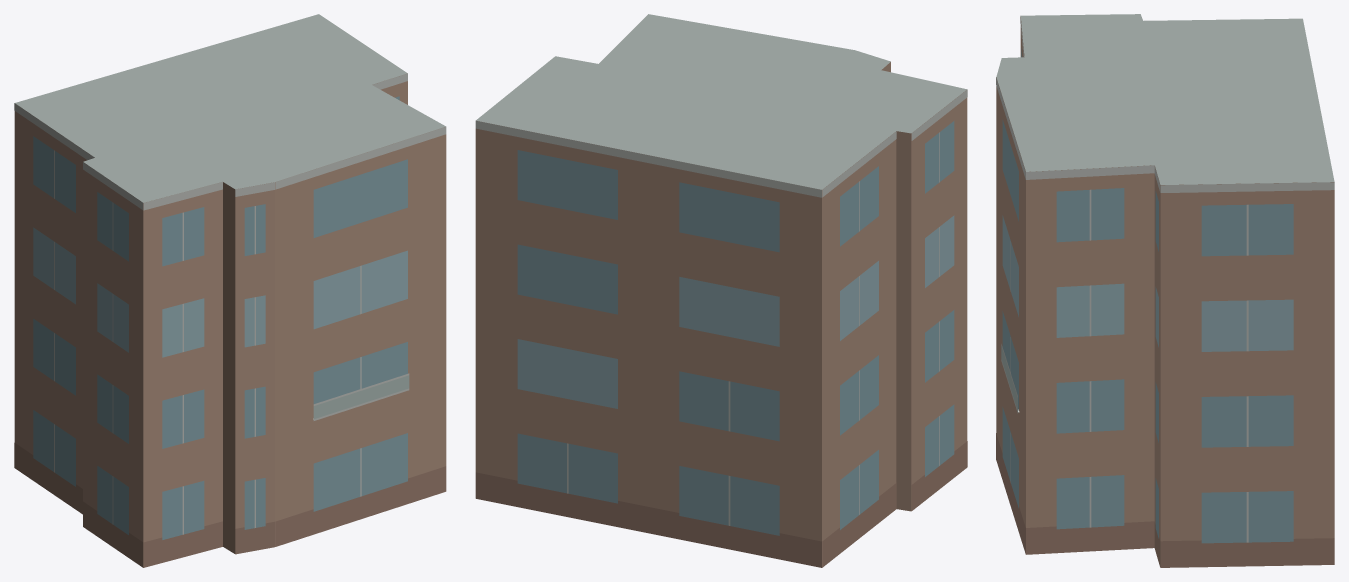
Rendered from survey-upis-32496016.glb.
3 views of the same model, side by side, from view 1: azimuth 30°, elevation 25°; view 2: azimuth 150°, elevation 25°; view 3: azimuth 270°, elevation 25° (orthographic). The views are drawn at different scales.
Visible parts, largest first — view 1: survey-upis-32496016.tmp; view 2: survey-upis-32496016.tmp; view 3: survey-upis-32496016.tmp.
Boxes of the visible parts, x1,y1,x2,y2 form: survey-upis-32496016.tmp: [14, 14, 446, 567]; survey-upis-32496016.tmp: [475, 14, 967, 567]; survey-upis-32496016.tmp: [996, 14, 1334, 567].
Bounding box in the file's own units: 11.13 × 11.6 × 9.3.
